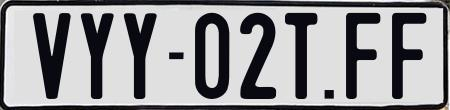0: (193, 12, 232, 104)
2: (237, 10, 277, 99)
F: (392, 10, 428, 101), (344, 10, 380, 98)
T: (284, 13, 322, 103)
V: (32, 10, 70, 101)
Y: (80, 10, 116, 102), (122, 13, 156, 100)
